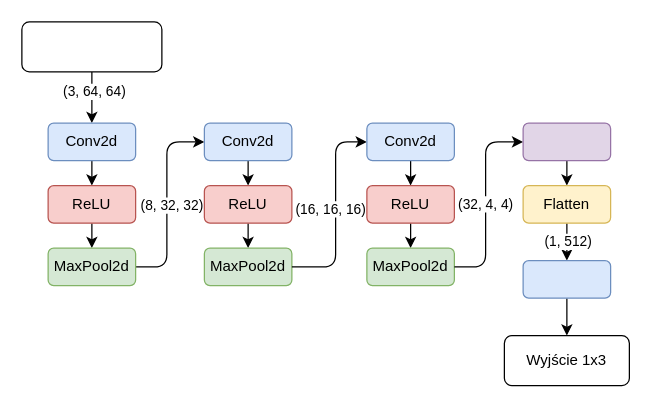
Some shapes in this 651 by 408 pixel diagram are drawn without their labels. Here are the shapes that lost their labels. From the top down, the centre of each, then its label:
At point 91,46: "Wejście: (3, 64,64)".
At point 566,141: "Dropout".
At point 566,278: "Linear".
